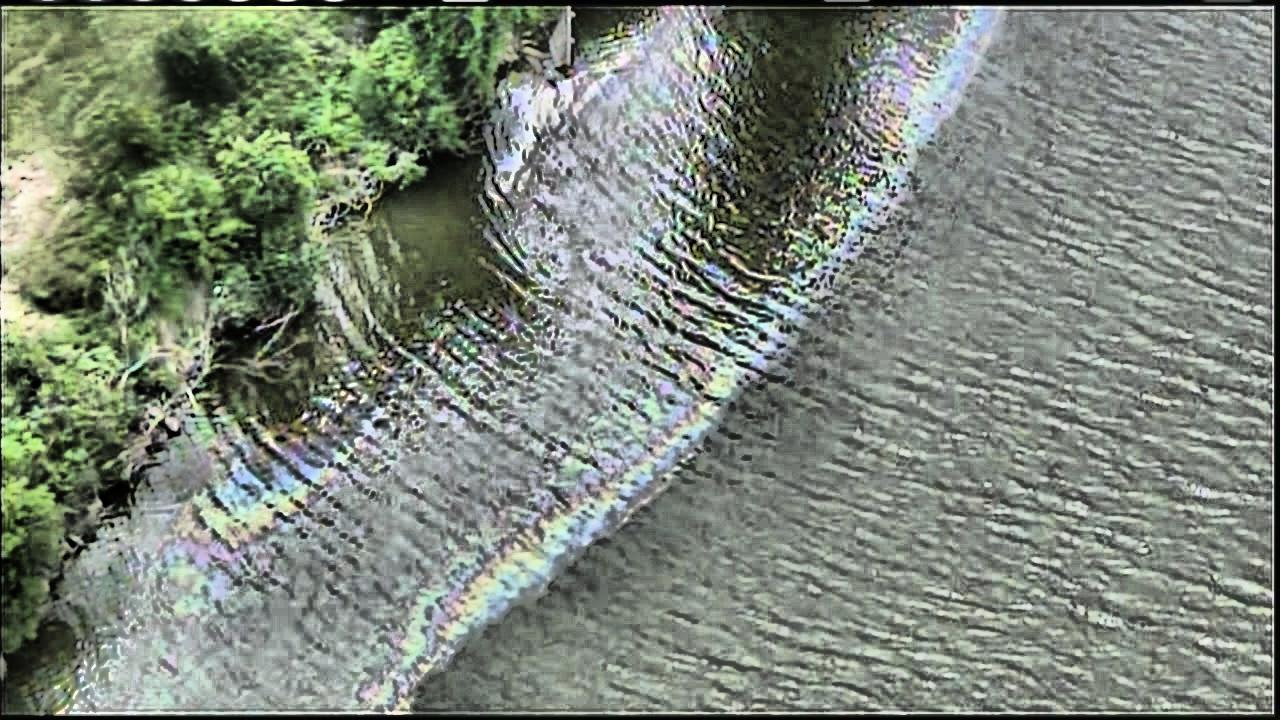sheen: (49, 5, 996, 714)
